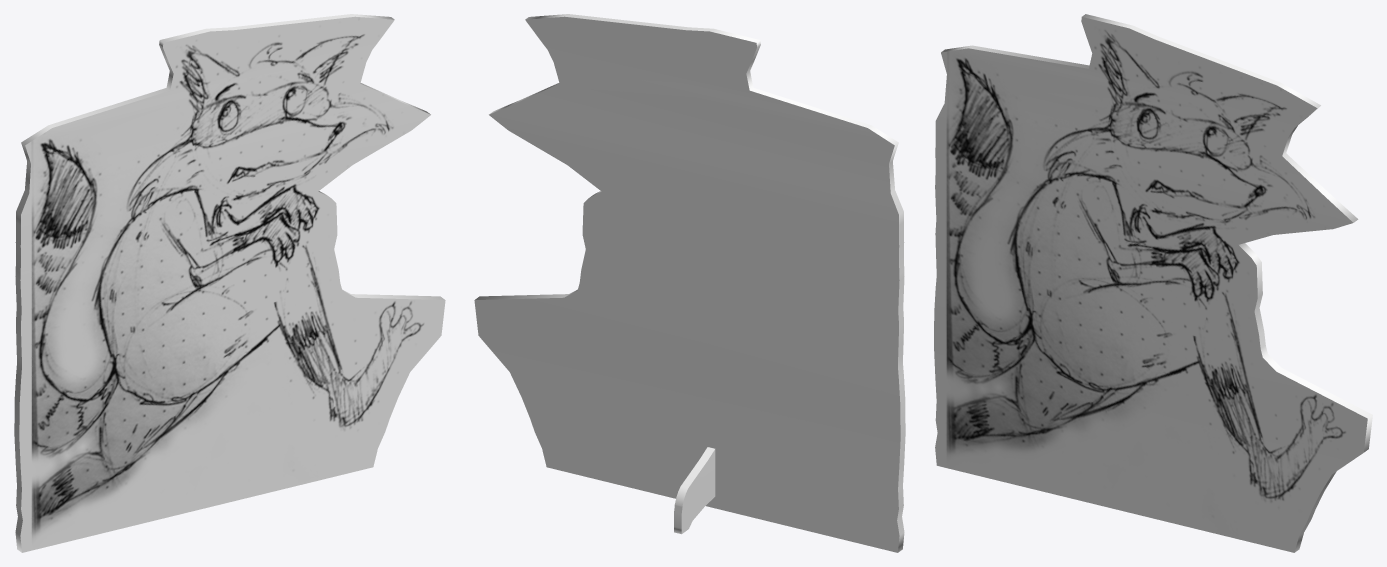
The model's file is ApprenticeMockUp.fbx.
3 views of the same model, side by side, from view 1: azimuth 30°, elevation 25°; view 2: azimuth 150°, elevation 25°; view 3: azimuth 330°, elevation 25° (orthographic).
Parts seen in each view (by area): view 1: Cube; view 2: Cube; view 3: Cube.
Part boxes in pixels (x1,y1,x2,y2): Cube: (14,14,445,552); Cube: (474,14,905,552); Cube: (934,14,1372,552).
Bounding box in the file's own units: 71.18 × 485 × 454.
